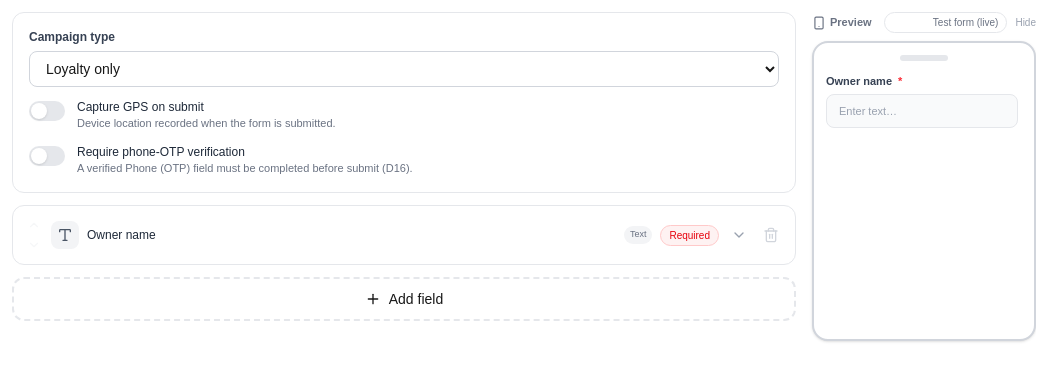
Scenario: SchemeFormBuilder — Live preview › swaps the static mock for the real renderer when Live is toggled on
Click the button "Test form (live)": click(966, 22) [925,13,1006,32]
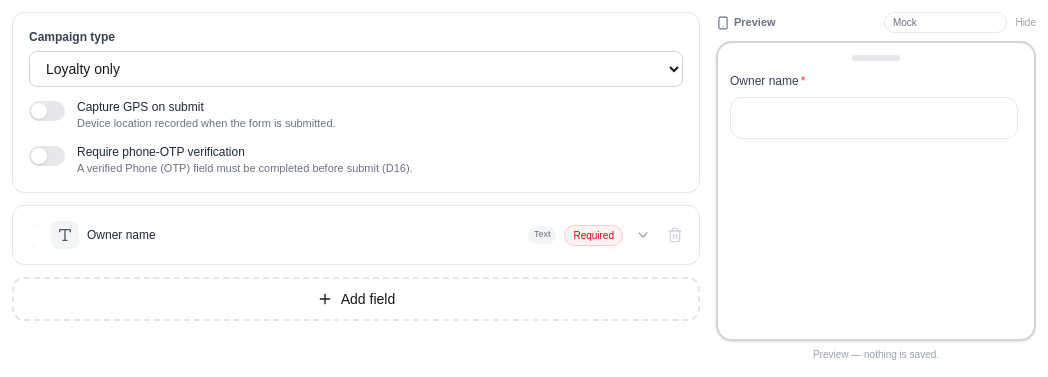
Check: the text "Preview — nothing is saved." is shown, box [813,349,939,360]
